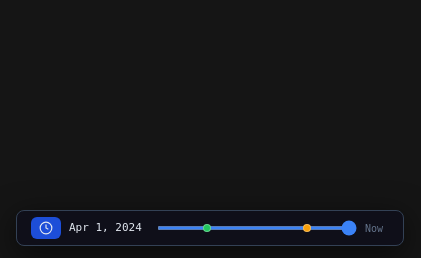
Test: TimelineScrubber › shows key moment detail popover when marker is clicked
# Click the first marker
Step 1. Click the 1st button with class "tl-marker" → (207, 228), box 203,224 -> 211,232
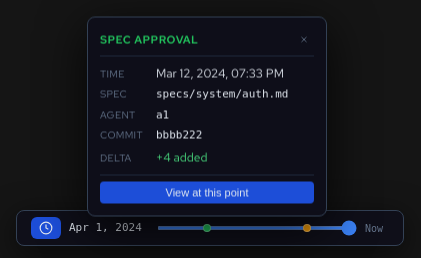
expect the element with class "tl-popover" is shown: met, box 87,16 -> 327,216
expect the text "Spec Approval" is shown: met, box 100,31 -> 199,48
